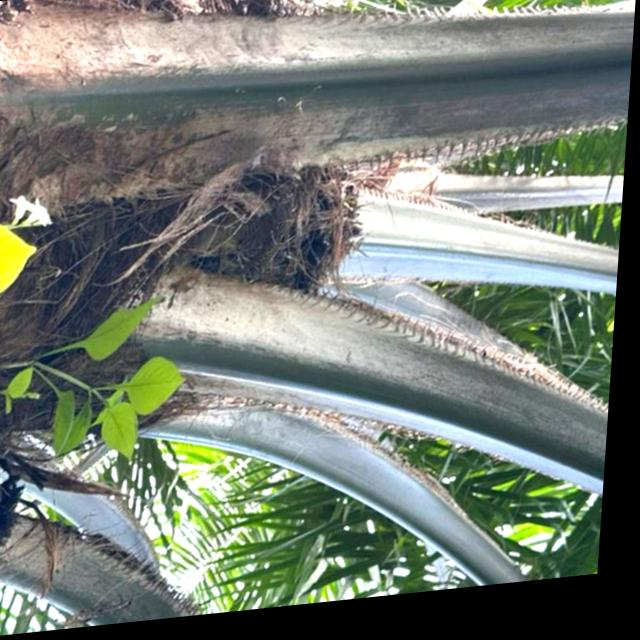unripe: (151, 141, 377, 354)
